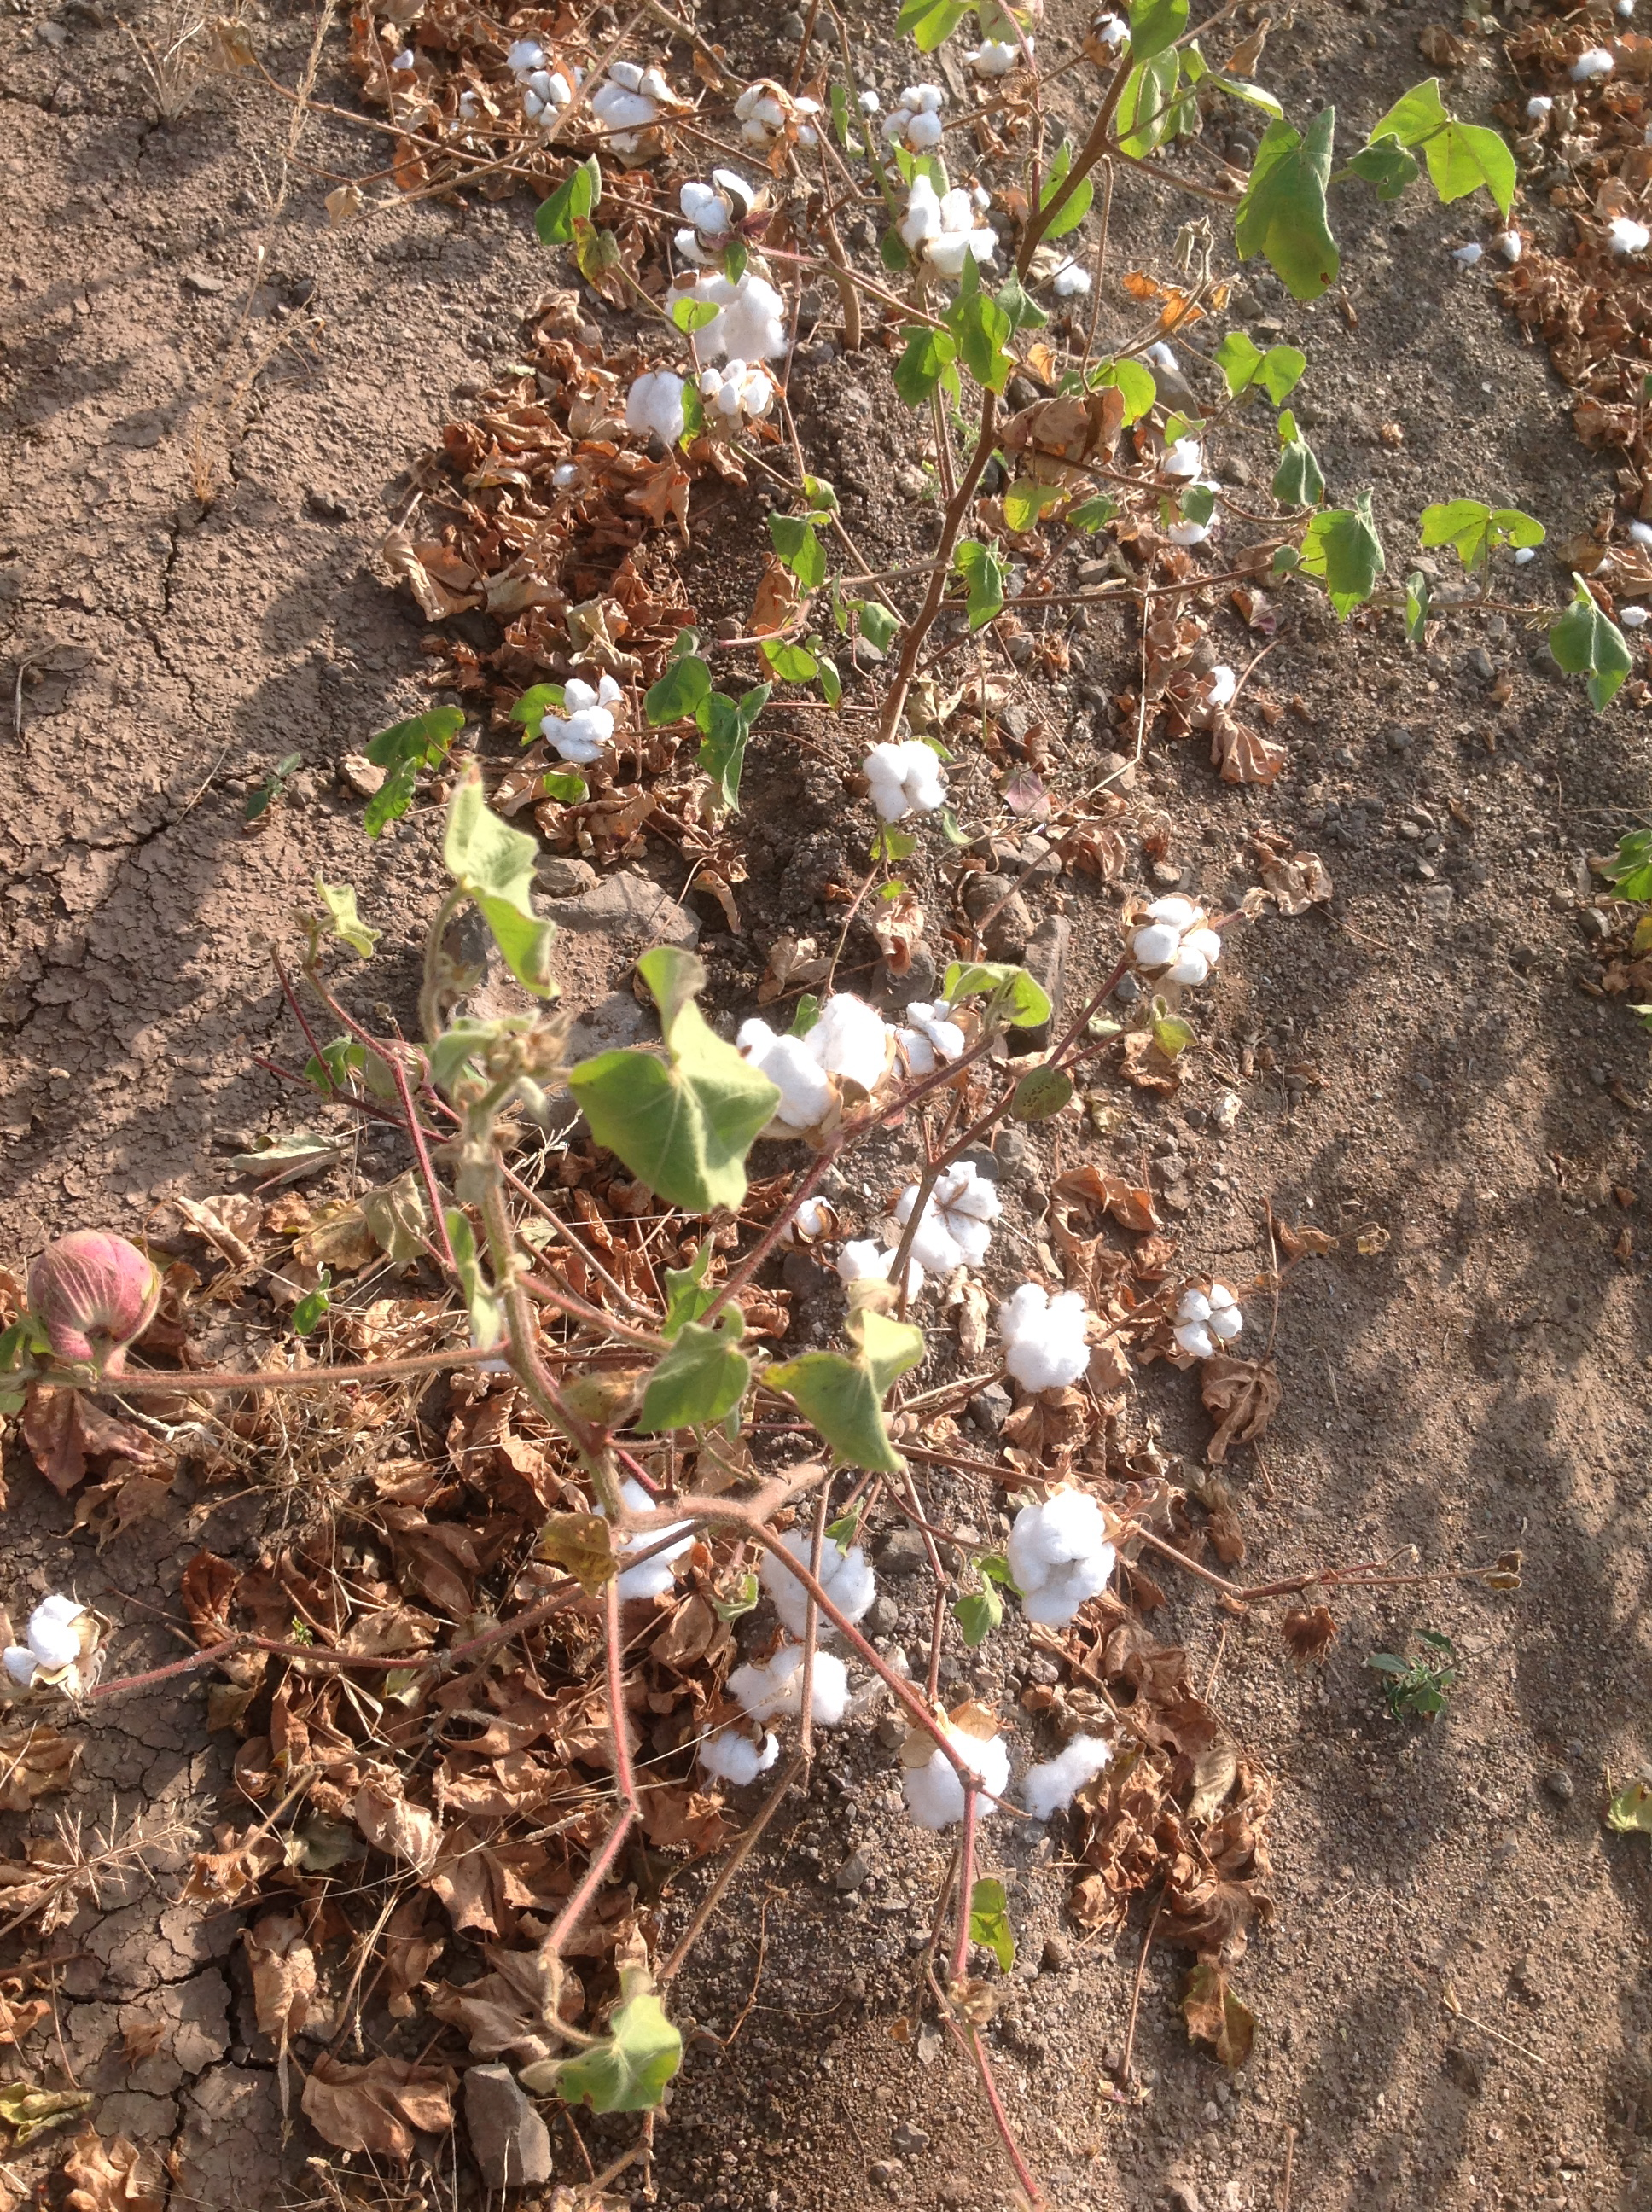cotton: (796, 984, 963, 1103), (724, 1015, 843, 1178), (994, 1489, 1144, 1619), (751, 1511, 887, 1646), (724, 1624, 866, 1751), (890, 1712, 1020, 1848), (632, 357, 802, 451), (672, 265, 798, 389), (887, 1159, 1008, 1266), (882, 186, 1012, 285), (1121, 885, 1220, 1011), (1008, 1730, 1131, 1830), (9, 1596, 109, 1712), (998, 1282, 1098, 1390), (729, 82, 862, 161), (666, 184, 779, 274), (859, 730, 947, 834), (547, 670, 632, 774), (585, 59, 682, 149), (1150, 442, 1229, 550), (1159, 1280, 1241, 1378), (1005, 231, 1102, 311), (875, 69, 958, 151), (496, 47, 562, 109)
